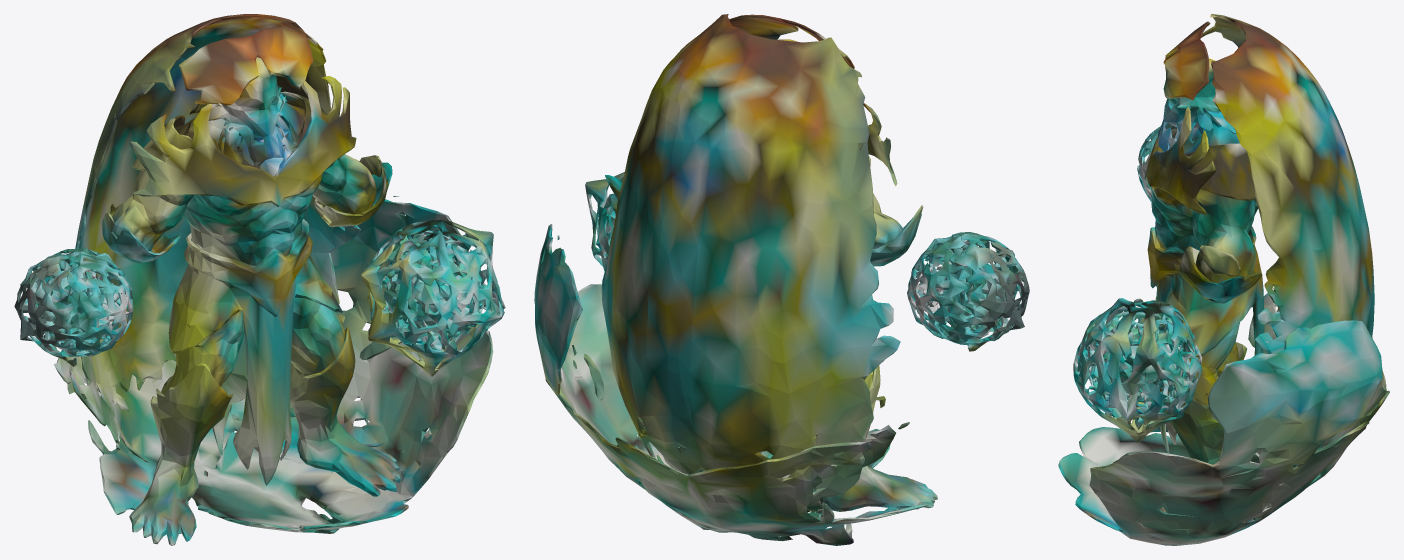
The model's file is sporeSwarm.glb.
3 views of the same model, side by side, from view 1: azimuth 30°, elevation 25°; view 2: azimuth 150°, elevation 25°; view 3: azimuth 270°, elevation 25° (orthographic). The views are drawn at different scales.
Parts seen in each view (by area): view 1: world; view 2: world; view 3: world.
Boxes of the visible parts, x1,y1,x2,y2 form: world: [14, 14, 505, 545]; world: [534, 14, 1029, 545]; world: [1058, 14, 1389, 545].
Bounding box in the file's own units: 0.9792 × 1 × 0.6476.
